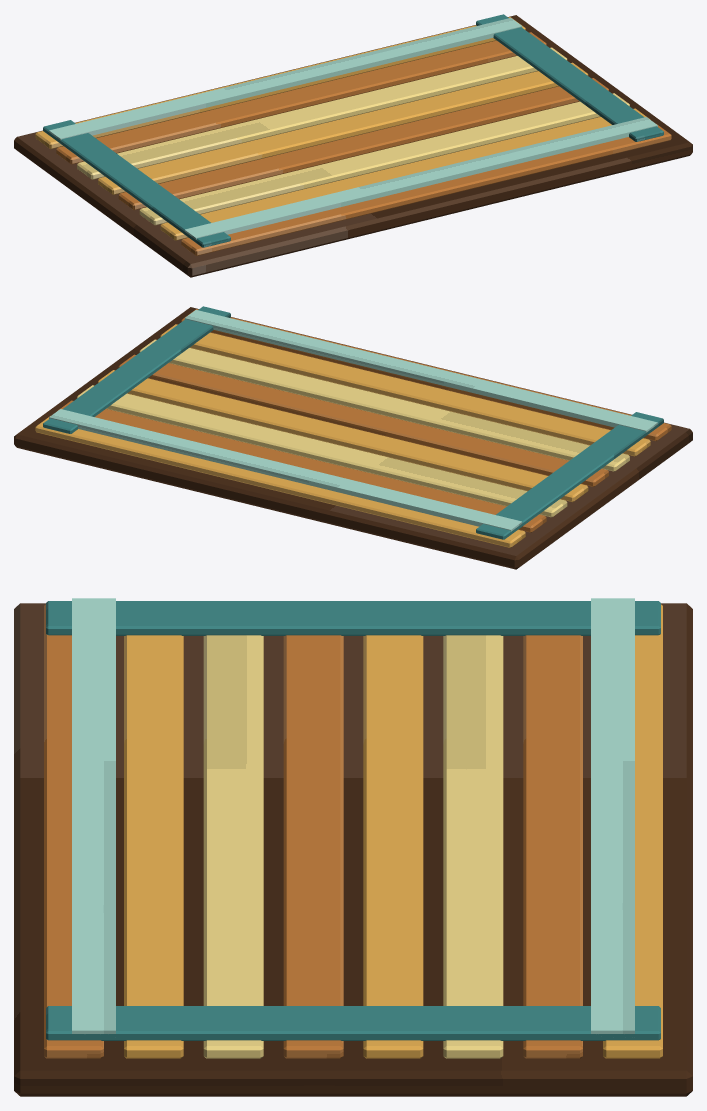
The model's file is beach_mat_sun.glb.
3 views of the same model, one above another, from view 1: azimuth 30°, elevation 25°; view 2: azimuth 150°, elevation 25°; view 3: azimuth 270°, elevation 25° (orthographic). The views are drawn at different scales.
Parts seen in each view (by area): view 1: TextileBase, BeachSlat_2, BeachSlat_5, BeachSlat_3, BeachSlat_4, BeachSlat_6, BeachTie_0.32499999999999996, BeachTie_-0.32499999999999996, BeachSlat_0, BeachSlat_1, BeachEdge_-0.6, BeachEdge_0.6 (+1 smaller); view 2: TextileBase, BeachSlat_5, BeachSlat_2, BeachSlat_4, BeachSlat_1, BeachSlat_3, BeachTie_-0.32499999999999996, BeachTie_0.32499999999999996, BeachSlat_7, BeachSlat_6, BeachEdge_-0.6, BeachEdge_0.6 (+1 smaller); view 3: TextileBase, BeachSlat_2, BeachSlat_5, BeachSlat_3, BeachSlat_4, BeachSlat_1, BeachSlat_6, BeachTie_0.32499999999999996, BeachTie_-0.32499999999999996, BeachEdge_0.6, BeachEdge_-0.6, BeachSlat_0 (+1 smaller).
Part boxes in pixels (bbox=[...]): TextileBase: bbox=[14, 15, 692, 277]; BeachSlat_2: bbox=[139, 93, 629, 225]; BeachSlat_5: bbox=[77, 47, 567, 179]; BeachSlat_3: bbox=[118, 78, 608, 210]; BeachSlat_4: bbox=[98, 62, 588, 194]; BeachSlat_6: bbox=[56, 32, 546, 164]; BeachTie_0.32499999999999996: bbox=[49, 18, 522, 140]; BeachTie_-0.32499999999999996: bbox=[184, 117, 657, 239]; BeachSlat_0: bbox=[181, 124, 671, 255]; BeachSlat_1: bbox=[160, 108, 650, 240]; BeachEdge_-0.6: bbox=[43, 120, 230, 247]; BeachEdge_0.6: bbox=[476, 14, 663, 141]; TextileBase: bbox=[14, 307, 692, 569]; BeachSlat_5: bbox=[77, 385, 567, 517]; BeachSlat_2: bbox=[139, 339, 629, 471]; BeachSlat_4: bbox=[98, 370, 588, 502]; BeachSlat_1: bbox=[160, 324, 650, 456]; BeachSlat_3: bbox=[118, 354, 608, 486]; BeachTie_-0.32499999999999996: bbox=[184, 310, 657, 432]; BeachTie_0.32499999999999996: bbox=[49, 409, 522, 531]; BeachSlat_7: bbox=[35, 416, 525, 547]; BeachSlat_6: bbox=[56, 400, 546, 532]; BeachEdge_-0.6: bbox=[476, 412, 663, 539]; BeachEdge_0.6: bbox=[43, 306, 230, 433]; TextileBase: bbox=[14, 603, 692, 1096]; BeachSlat_2: bbox=[203, 635, 263, 1058]; BeachSlat_5: bbox=[443, 635, 503, 1058]; BeachSlat_3: bbox=[283, 635, 343, 1058]; BeachSlat_4: bbox=[363, 635, 423, 1058]; BeachSlat_1: bbox=[124, 635, 183, 1058]; BeachSlat_6: bbox=[523, 635, 582, 1058]; BeachTie_0.32499999999999996: bbox=[591, 598, 634, 1033]; BeachTie_-0.32499999999999996: bbox=[72, 598, 115, 1033]; BeachEdge_0.6: bbox=[46, 1006, 660, 1040]; BeachEdge_-0.6: bbox=[46, 601, 660, 635]; BeachSlat_0: bbox=[44, 604, 103, 1058].
Bounding box in the file's own units: 1.4 × 0.067 × 0.85.
1 material, 1 textured.
